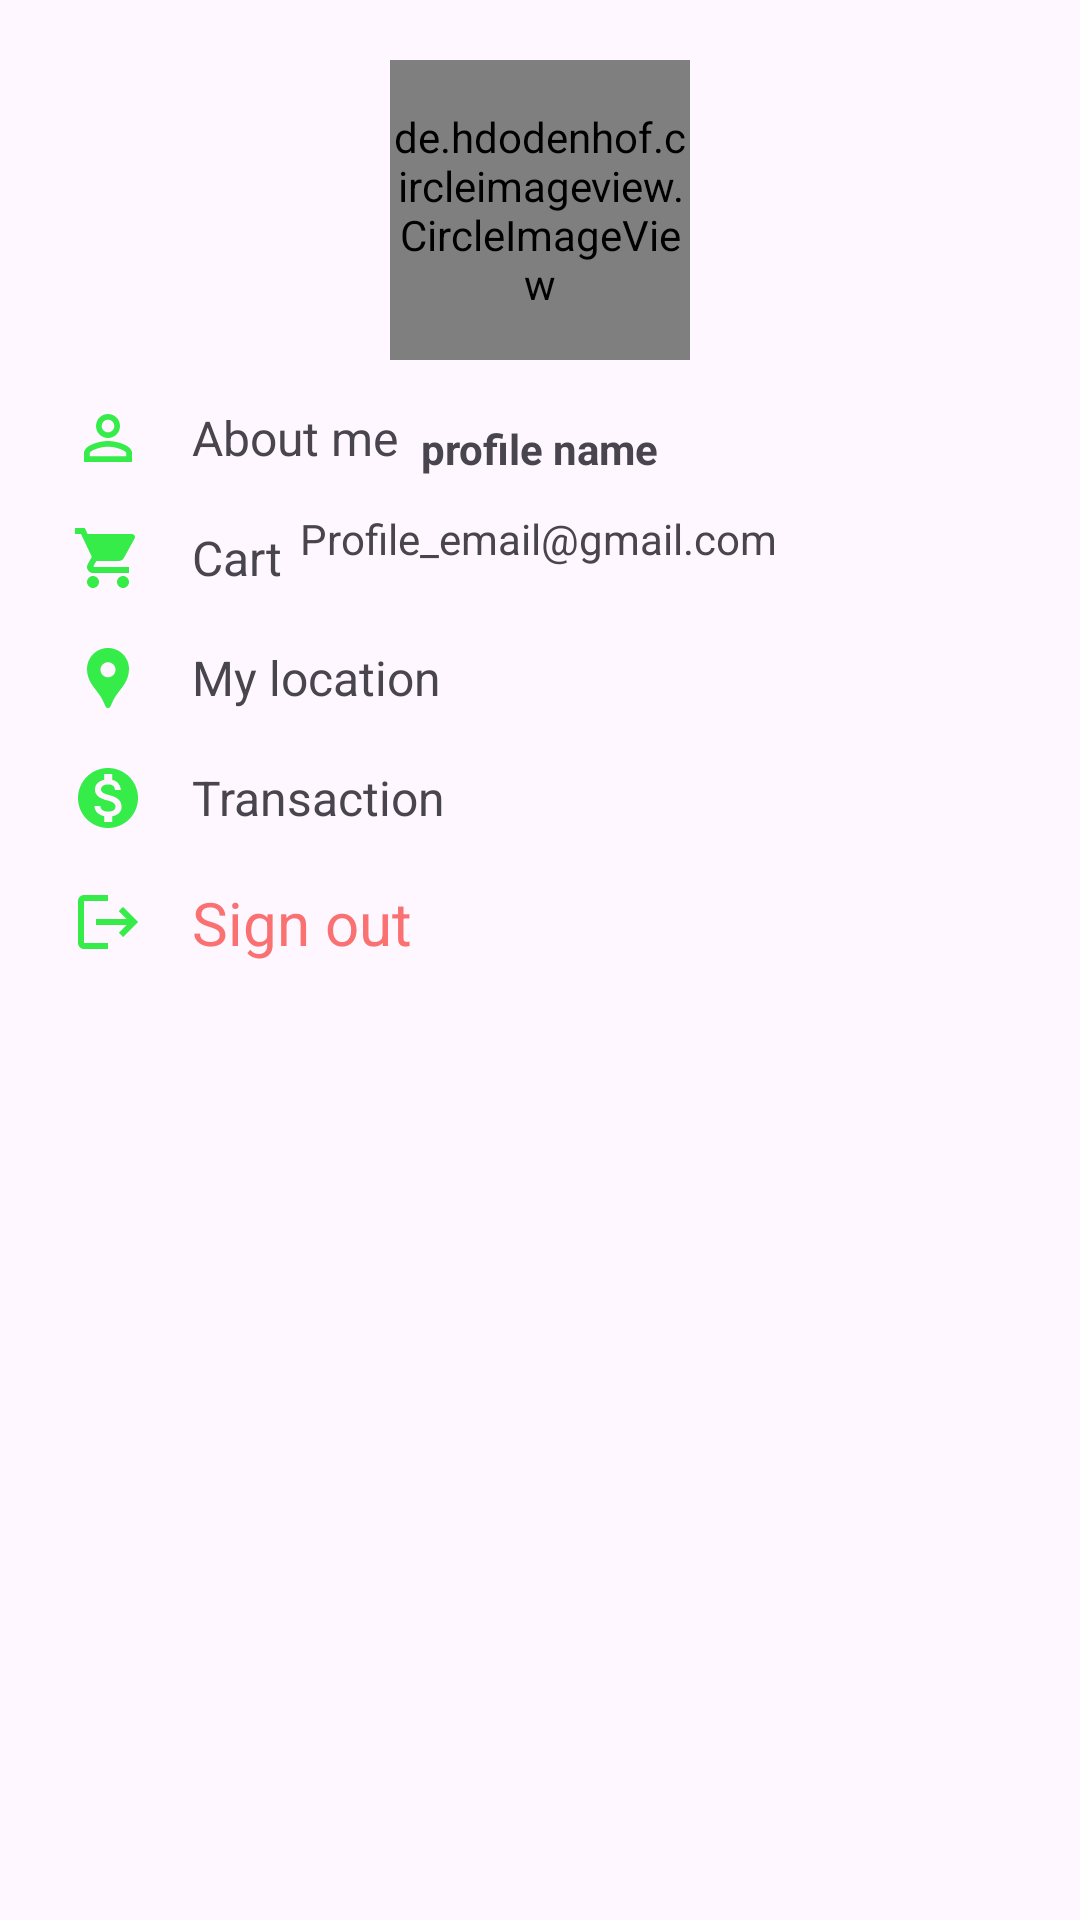

Icon bounding boxes for this 1080px x 1920px phone screenshot, format rect(x1, y1, x2, y2):
profile: rect(84, 414, 132, 462)
